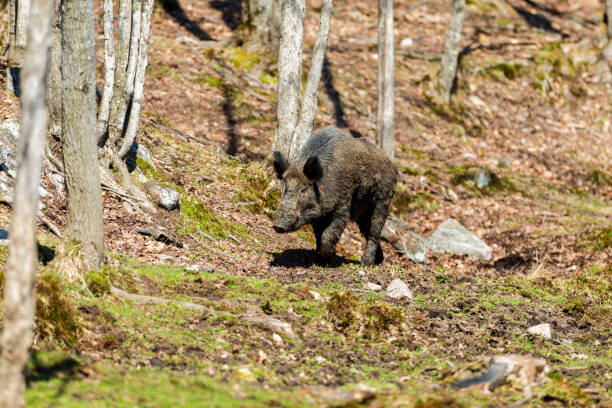pig: (269, 124, 393, 266)
